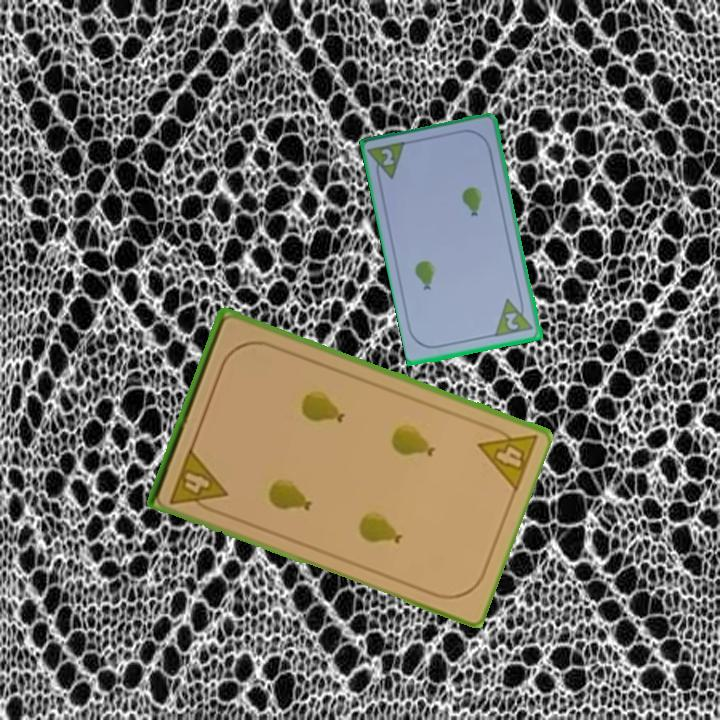2p: (492, 293, 537, 340), (378, 145, 397, 169)
4p: (474, 419, 540, 494), (166, 444, 230, 517)
